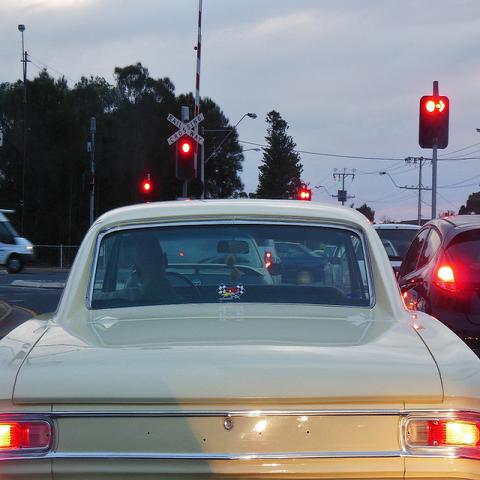car: (0, 200, 479, 479), (398, 211, 480, 355), (0, 208, 41, 274), (372, 224, 425, 271)
truck: (0, 211, 37, 275)
